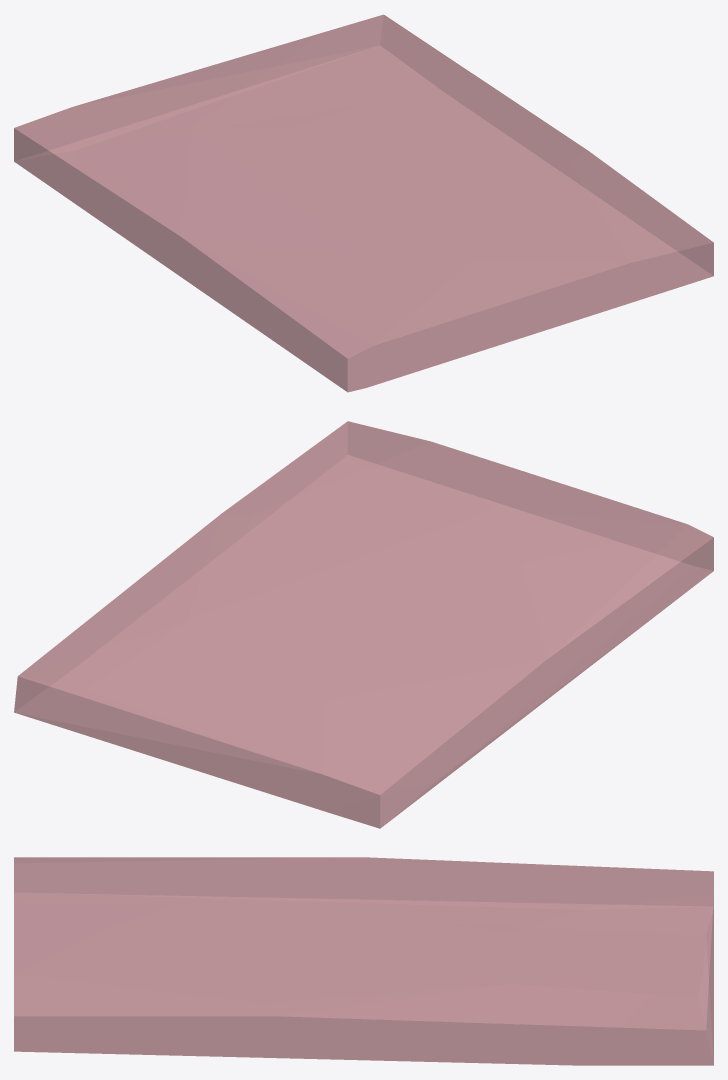
3 renders of one model, top to bottom at view 1: azimuth 30°, elevation 25°; view 2: azimuth 150°, elevation 25°; view 3: azimuth 270°, elevation 25°, orthographic. The views are drawn at different scales.
Parts seen in each view (by area): view 1: Shape_IndexedFaceSet.004_Shape_IndexedFaceSet.10714; view 2: Shape_IndexedFaceSet.004_Shape_IndexedFaceSet.10714; view 3: Shape_IndexedFaceSet.004_Shape_IndexedFaceSet.10714.
Part boxes in pixels (bbox=[...]): Shape_IndexedFaceSet.004_Shape_IndexedFaceSet.10714: bbox=[14, 14, 713, 392]; Shape_IndexedFaceSet.004_Shape_IndexedFaceSet.10714: bbox=[14, 421, 713, 828]; Shape_IndexedFaceSet.004_Shape_IndexedFaceSet.10714: bbox=[14, 857, 713, 1065].
Size of the model in its own units: 0.1882 by 0.0363 by 0.2972.
